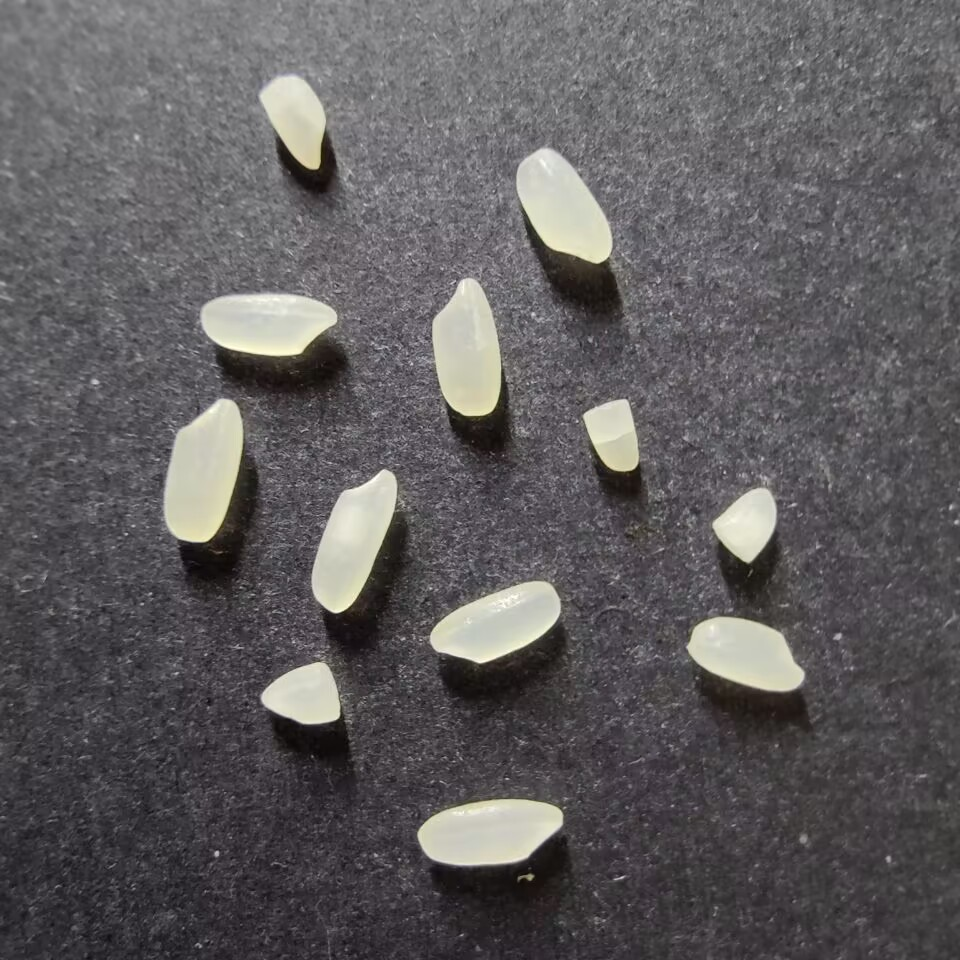broken: (258, 75, 326, 170), (259, 661, 341, 724), (711, 487, 777, 563), (582, 399, 640, 473)
rice: (310, 467, 398, 613), (162, 397, 243, 543), (515, 147, 612, 264), (428, 580, 561, 664), (417, 798, 564, 867), (430, 277, 502, 417), (686, 616, 805, 693), (199, 293, 337, 356)
